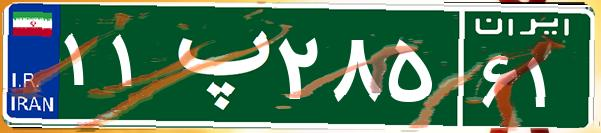1: (57, 26, 110, 107), (110, 28, 158, 105), (525, 38, 570, 115)
2: (273, 28, 330, 110)
5: (385, 28, 445, 110)
6: (475, 38, 525, 113)
8: (330, 28, 385, 110)
پ: (158, 15, 273, 115)
